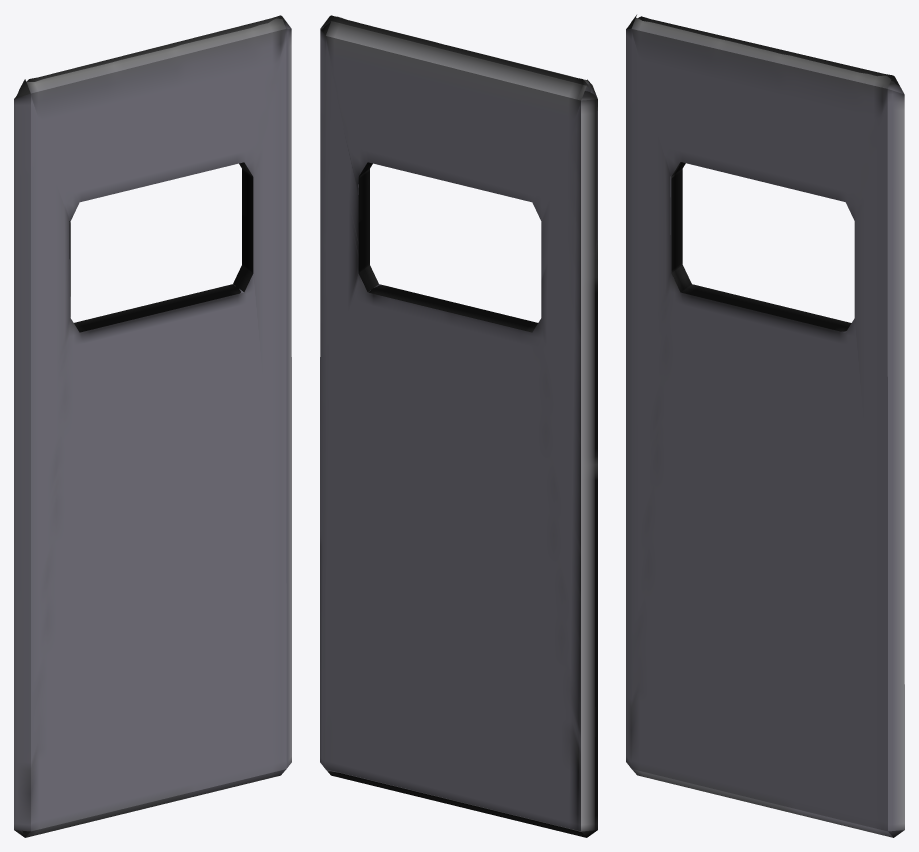
Rendered from corridor door.obj.
3 renders of one model, left to right at view 1: azimuth 30°, elevation 25°; view 2: azimuth 150°, elevation 25°; view 3: azimuth 330°, elevation 25°, orthographic.
Parts seen in each view (by area): view 1: Corridor_Door_Cube.016; view 2: Corridor_Door_Cube.016; view 3: Corridor_Door_Cube.016.
Boxes of the visible parts, x1,y1,x2,y2 form: Corridor_Door_Cube.016: [14, 15, 291, 837]; Corridor_Door_Cube.016: [320, 15, 597, 837]; Corridor_Door_Cube.016: [626, 15, 904, 837].
Size of the model in its own units: 0.539 by 1.41 by 0.0383.
